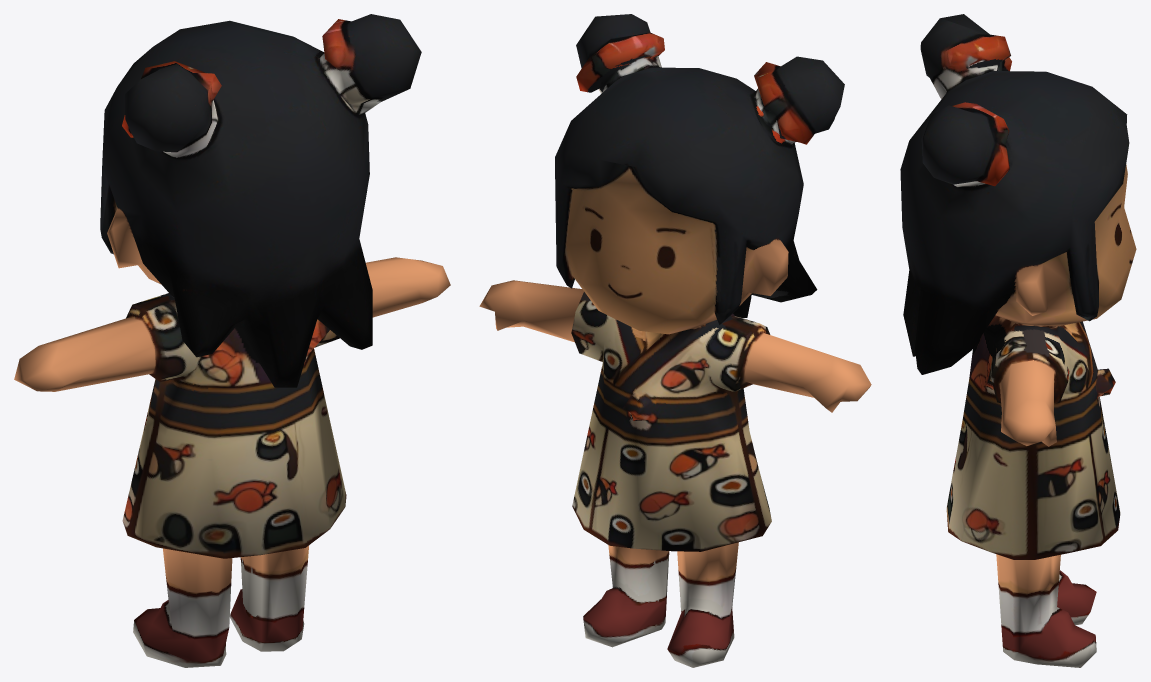
File: sushigirl.fbx
The picture shows the model from 3 angles, left to right: view 1: azimuth 30°, elevation 25°; view 2: azimuth 150°, elevation 25°; view 3: azimuth 270°, elevation 25°; orthographic projection. The views are drawn at different scales.
Parts seen in each view (by area): view 1: sushigirl_low; view 2: sushigirl_low; view 3: sushigirl_low.
Boxes of the visible parts, x1,y1,x2,y2 form: sushigirl_low: [14, 14, 450, 667]; sushigirl_low: [479, 14, 871, 667]; sushigirl_low: [900, 14, 1136, 667].
Size of the model in its own units: 174 by 93.35 by 250.
